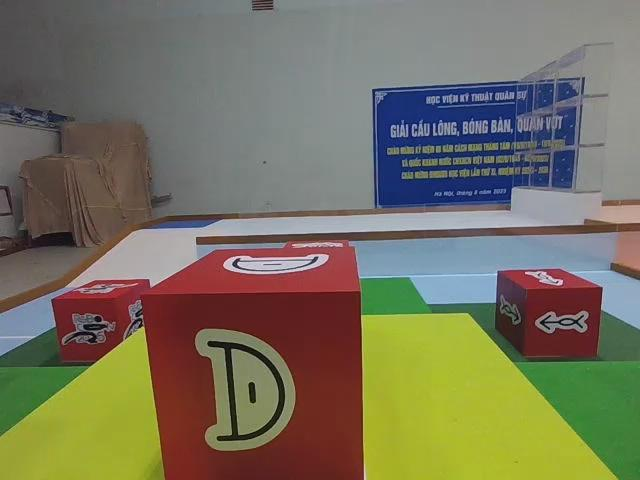R1: (51, 278, 148, 365)
R2 Real: (141, 247, 363, 480), (495, 266, 602, 359)
